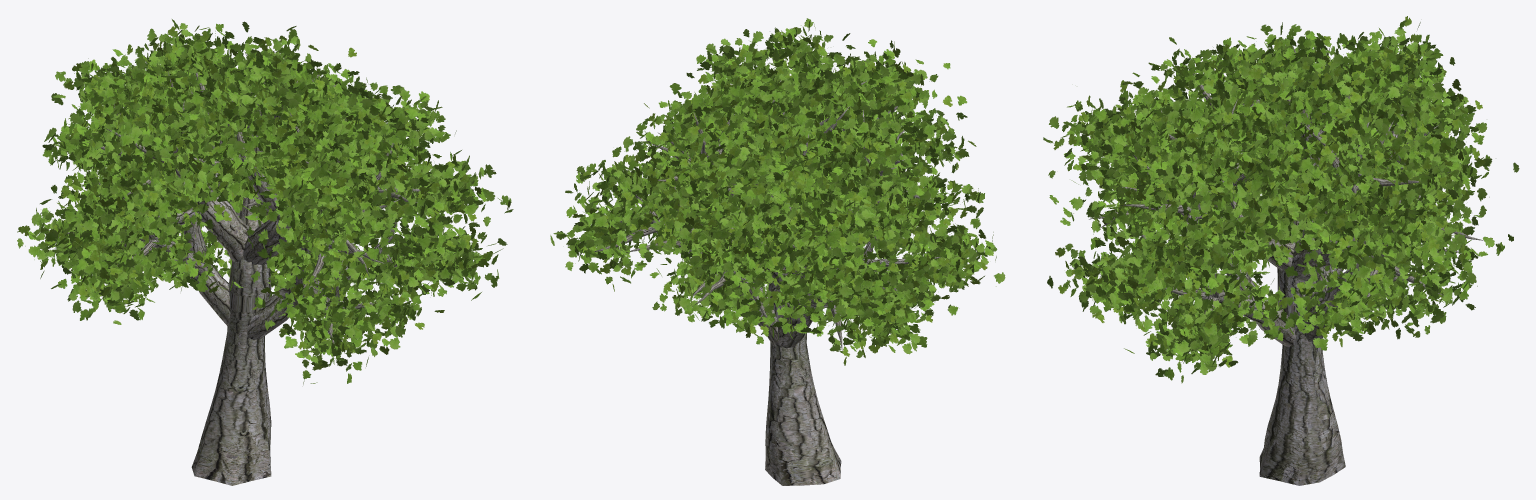
Rendered from linden_easytree_v020.glb.
The picture shows the model from 3 angles, left to right: view 1: azimuth 30°, elevation 25°; view 2: azimuth 150°, elevation 25°; view 3: azimuth 270°, elevation 25°; orthographic projection. The views are drawn at different scales.
Visible parts, largest first — view 1: Tilo foliage cards, Tilo_EasyTree_V020_Proof; view 2: Tilo foliage cards, Tilo_EasyTree_V020_Proof; view 3: Tilo foliage cards, Tilo_EasyTree_V020_Proof.
Part boxes in pixels (left/top/right/bottom): Tilo foliage cards: left=17, top=19, right=513, bottom=384; Tilo_EasyTree_V020_Proof: left=67, top=53, right=420, bottom=485; Tilo foliage cards: left=550, top=18, right=1005, bottom=365; Tilo_EasyTree_V020_Proof: left=594, top=57, right=940, bottom=485; Tilo foliage cards: left=1043, top=16, right=1519, bottom=383; Tilo_EasyTree_V020_Proof: left=1089, top=44, right=1483, bottom=485.
Size of the model in its own units: 6.17 by 5.75 by 5.92.
Materials: 2 (2 with a texture image).
